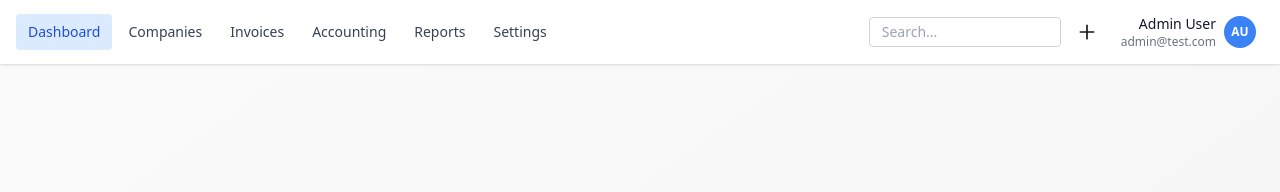
Test case: Navigation Component › Dropdowns › should show accounting submenu
Click the button "Accounting" at x=349, y=32, box [300,14,398,50]
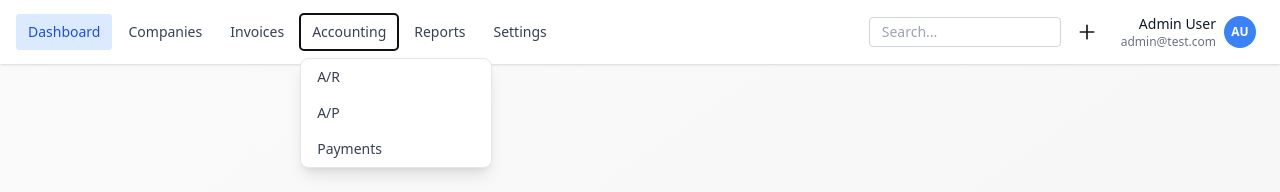
expect the link "A/R" is shown: met, box [317,67,340,86]
expect the link "A/P" is shown: met, box [317,103,340,122]
expect the link "Payments" is shown: met, box [317,139,382,158]
